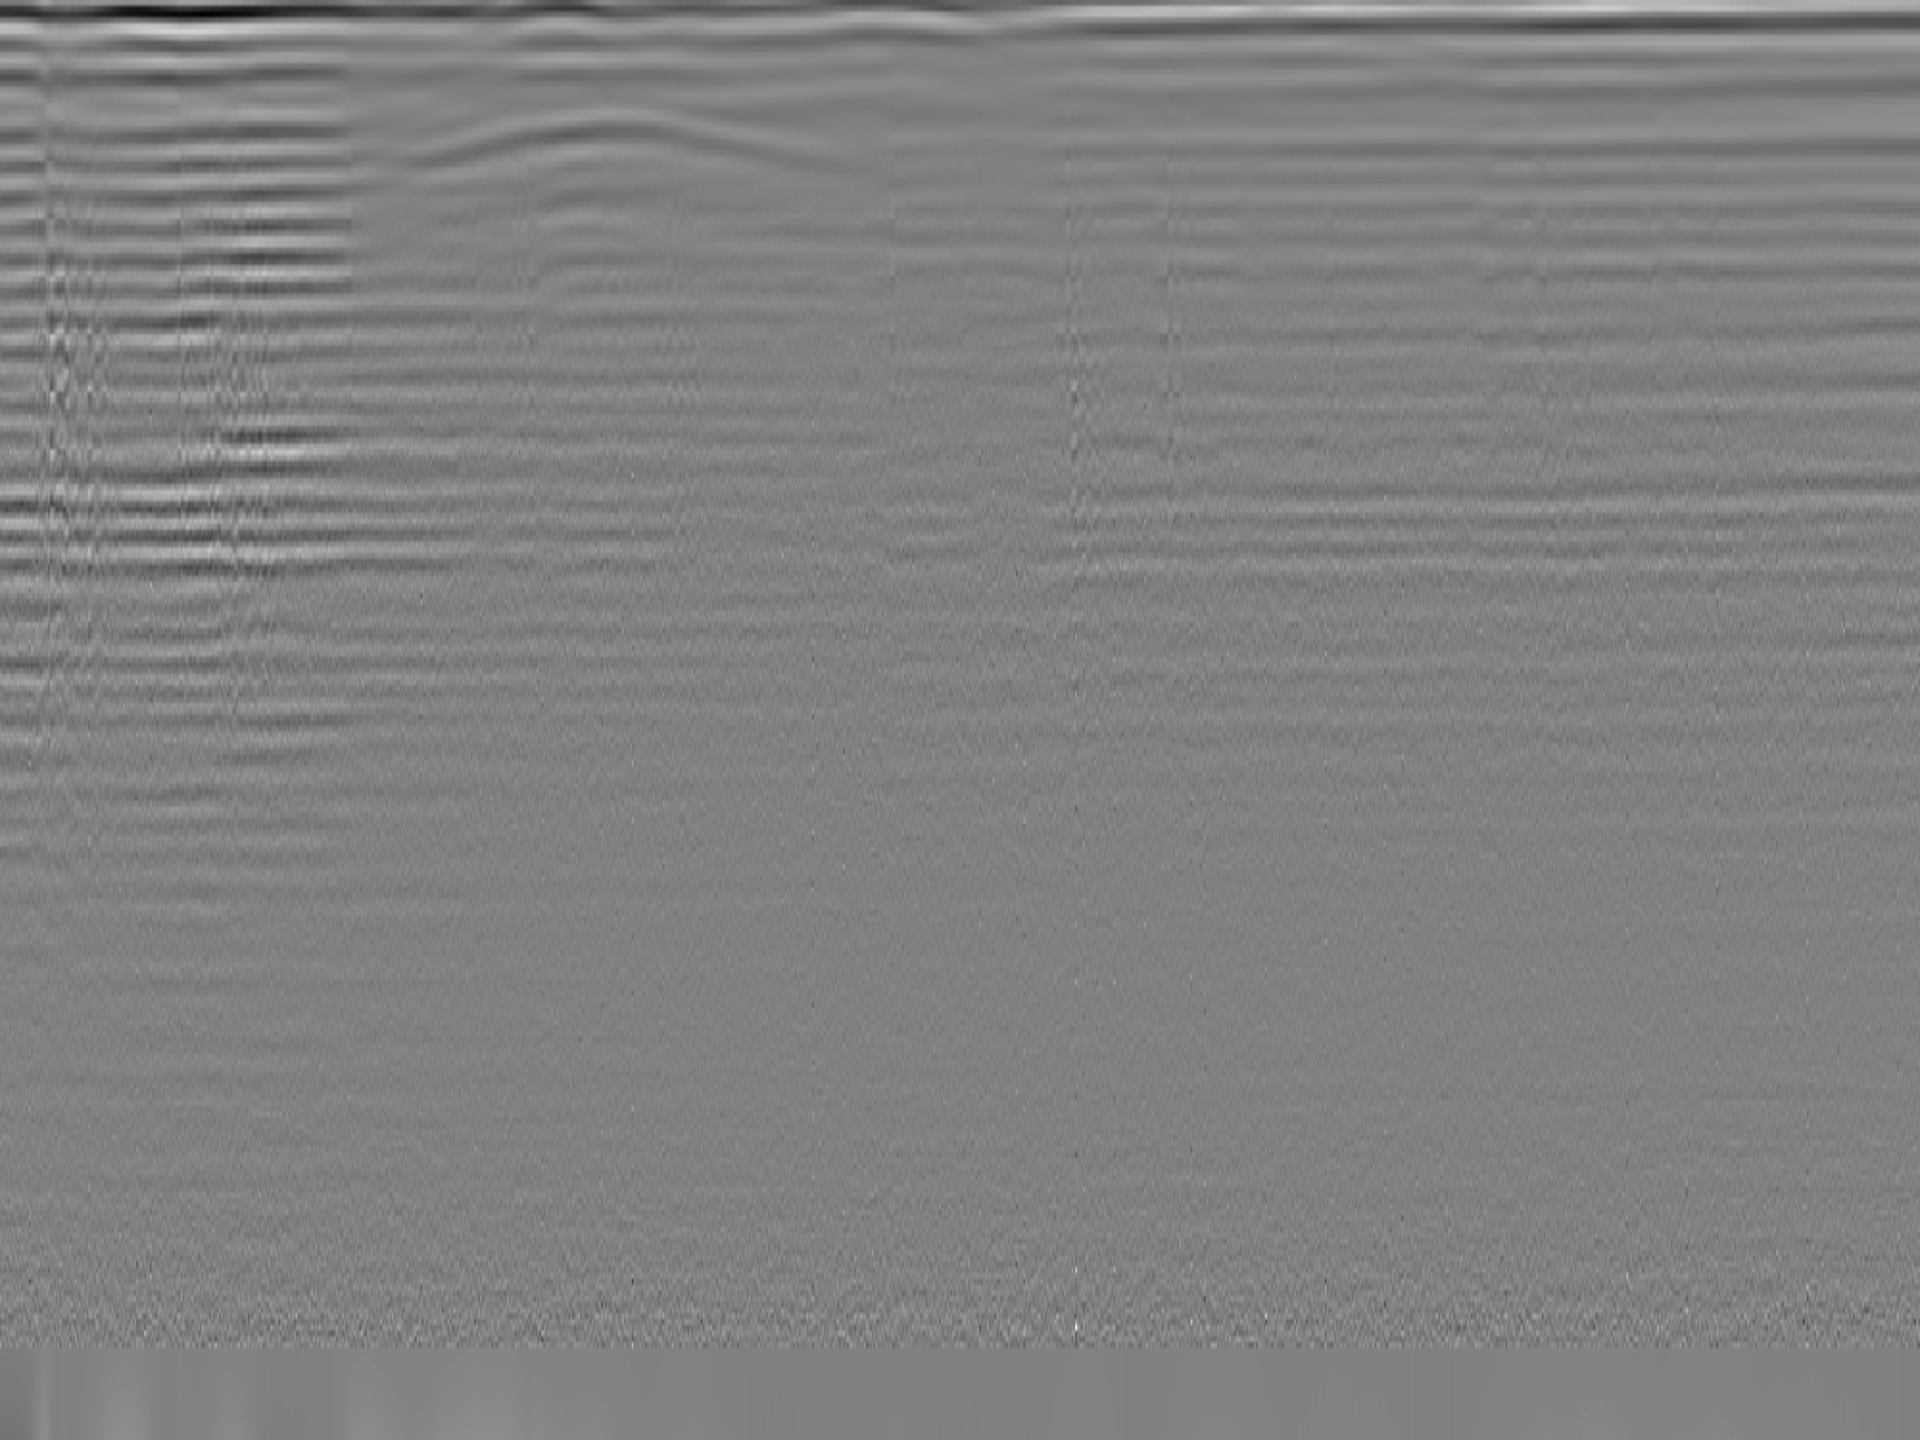Tunnel: (407, 104, 841, 172)
